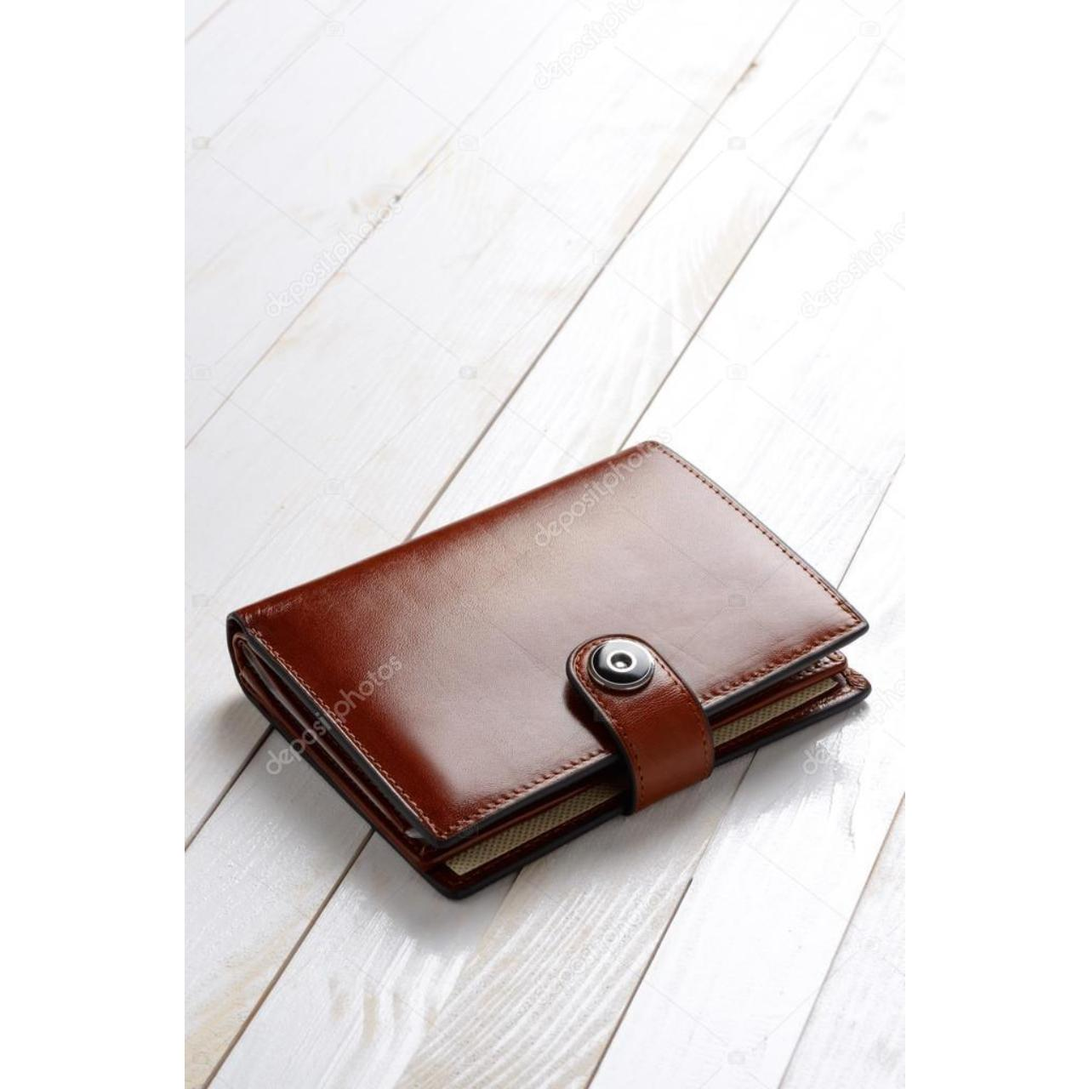wallet: (222, 442, 857, 921)
